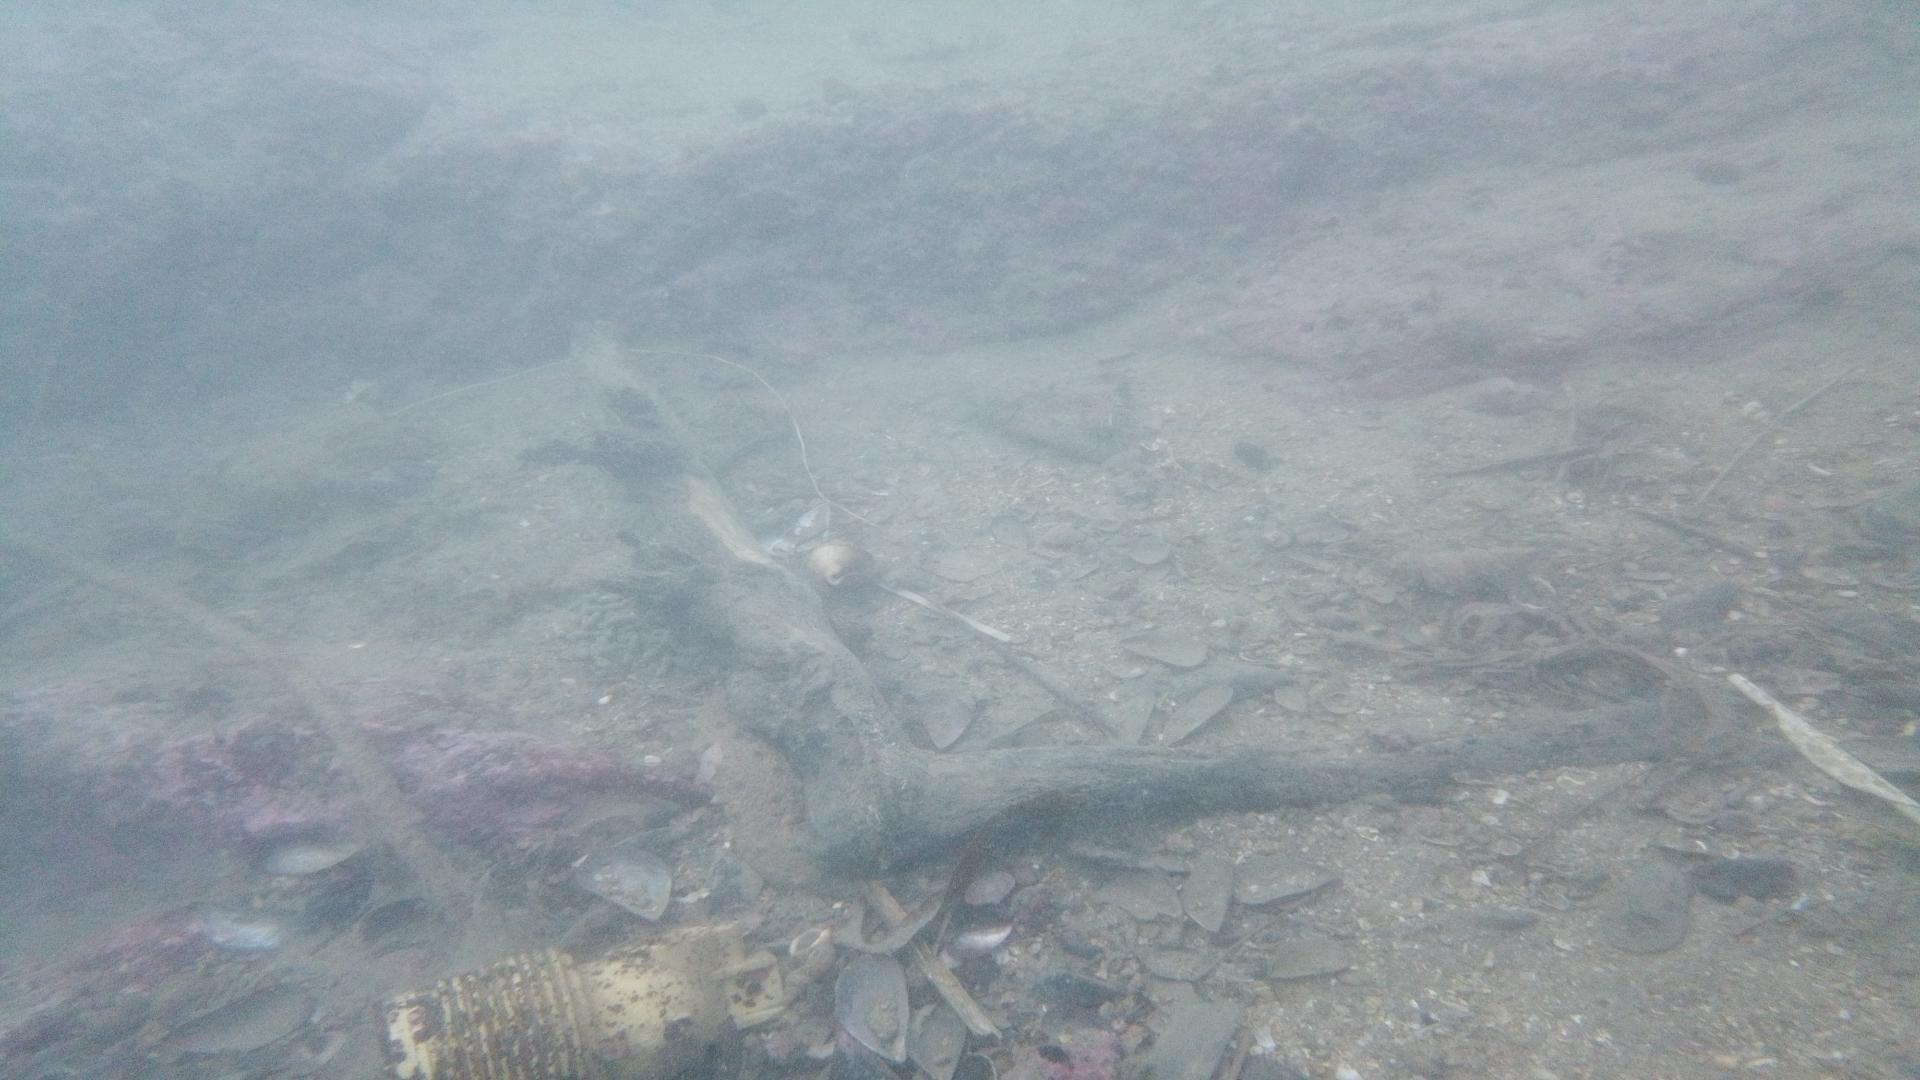rope: (0, 525, 468, 895)
wood: (563, 320, 1665, 880)
